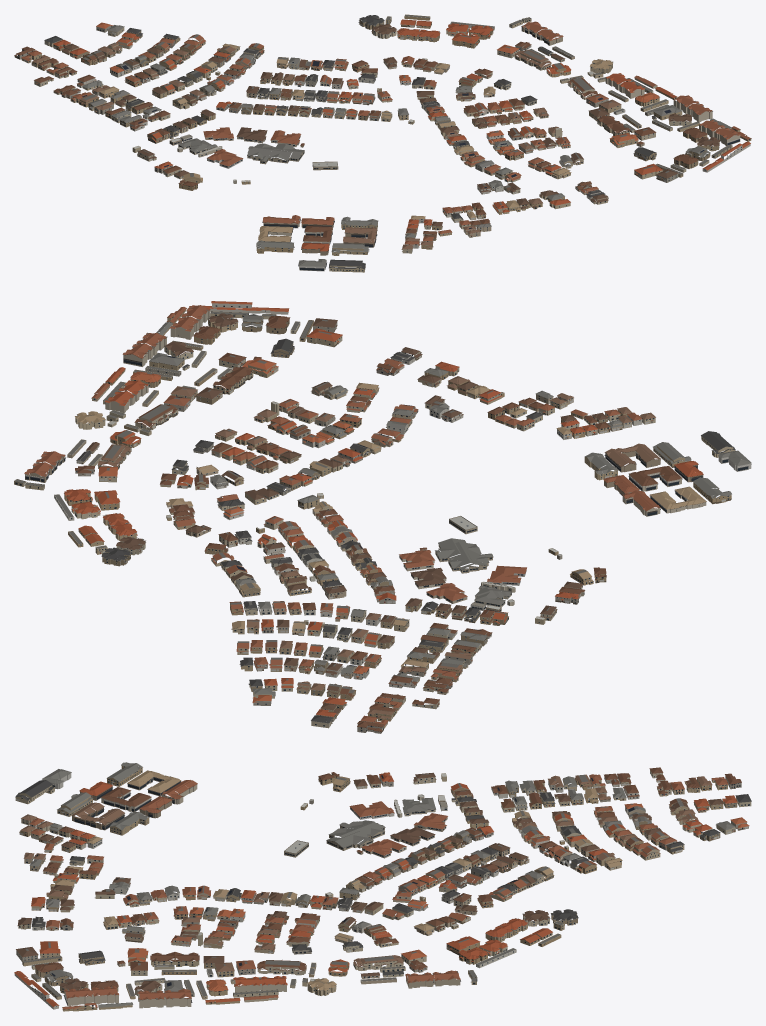
3 renders of one model, top to bottom at view 1: azimuth 30°, elevation 25°; view 2: azimuth 150°, elevation 25°; view 3: azimuth 270°, elevation 25°, orthographic. The views are drawn at different scales.
Visible parts, largest first — view 1: buildings_r2_c5_lod0; view 2: buildings_r2_c5_lod0; view 3: buildings_r2_c5_lod0.
Part boxes in pixels (left/top/right/bottom): buildings_r2_c5_lod0: left=14, top=14, right=751, bottom=272; buildings_r2_c5_lod0: left=14, top=301, right=751, bottom=733; buildings_r2_c5_lod0: left=14, top=762, right=751, bottom=1011.
Size of the model in its own units: 684 by 42.8 by 803.
